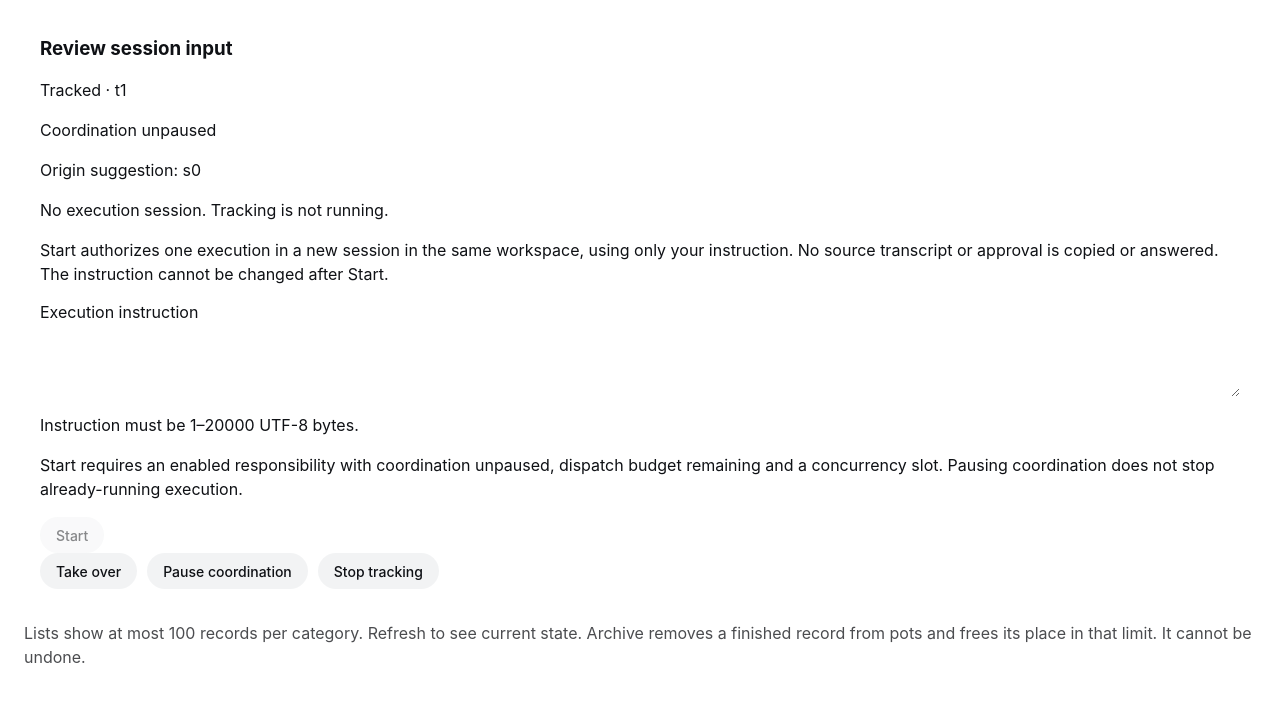
pots tracking checkpoint › clears private execution instruction drafts on account changes
(page scrolled)
Type "Private old account instruction" into the text box labelled "Execution instruction" at (640, 362), box [40,328,1240,398]
(page scrolled)
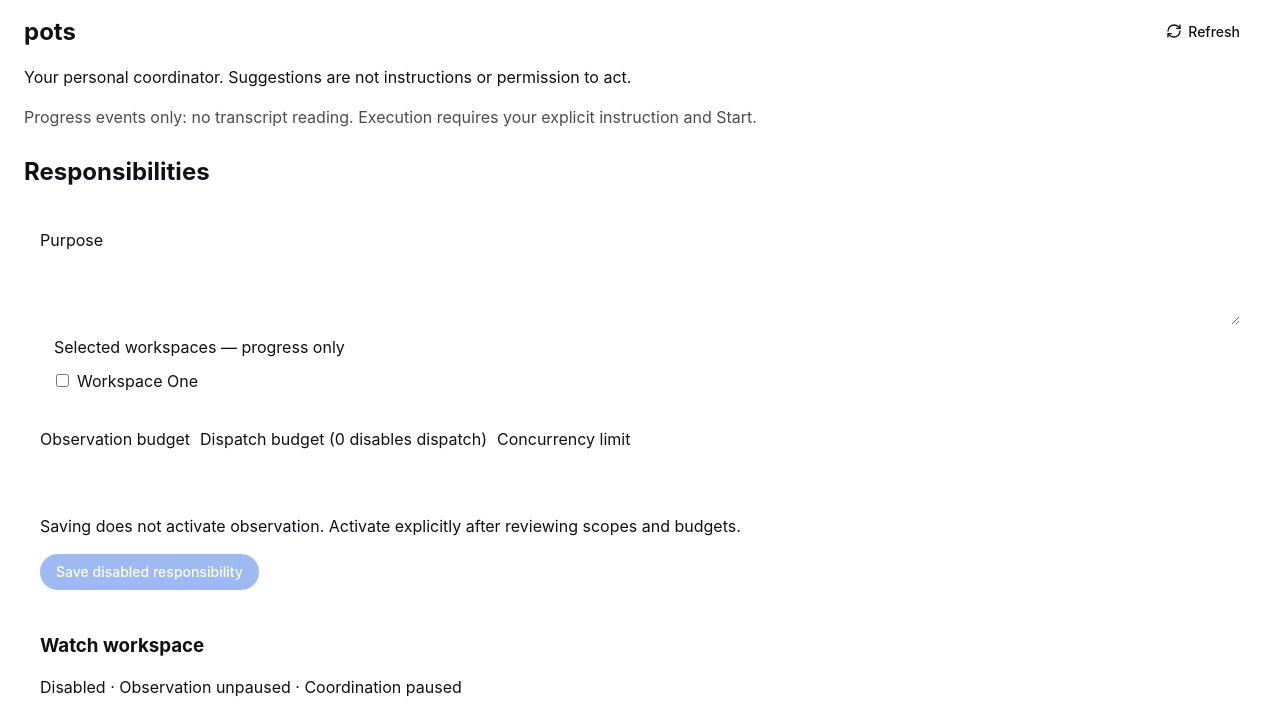
Click the button "Refresh" at (1203, 31), box [1150,13,1256,49]
(page scrolled)
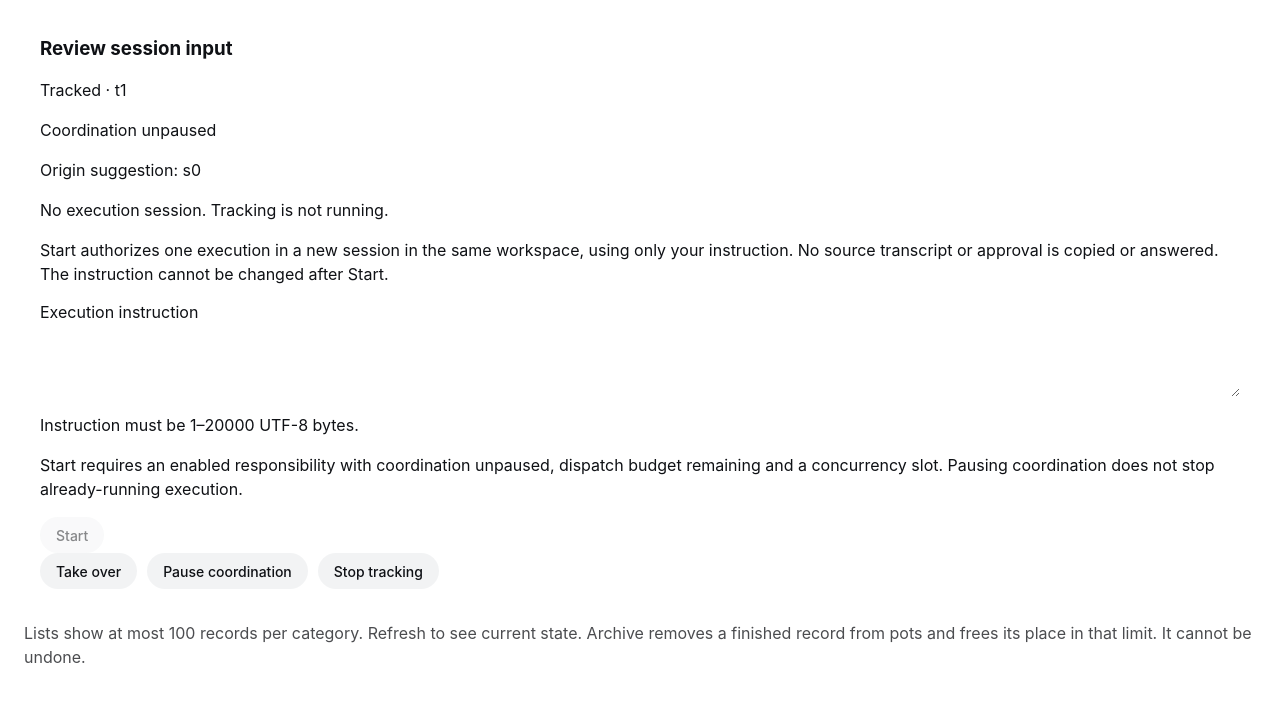
Now the text box labelled "Execution instruction" is empty, box [40,328,1240,398]
Now the button "Start" is disabled, box [40,518,104,554]
